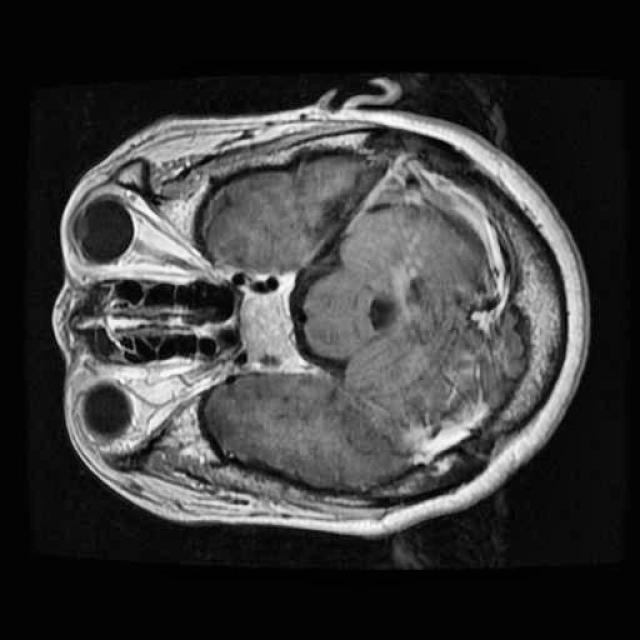Tumor: (229, 276, 309, 378)
